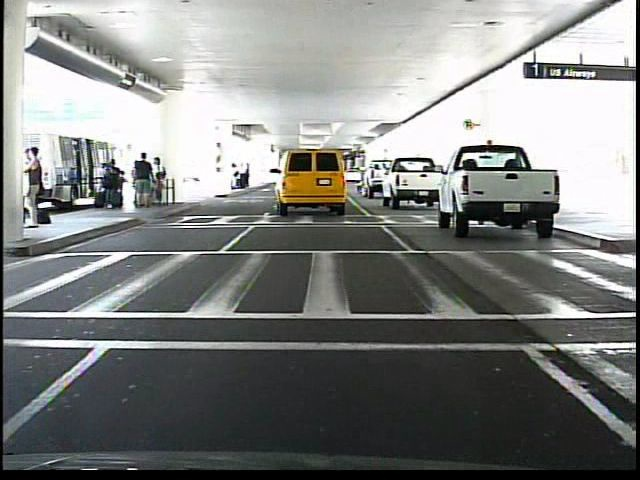person: (28, 146, 48, 231)
